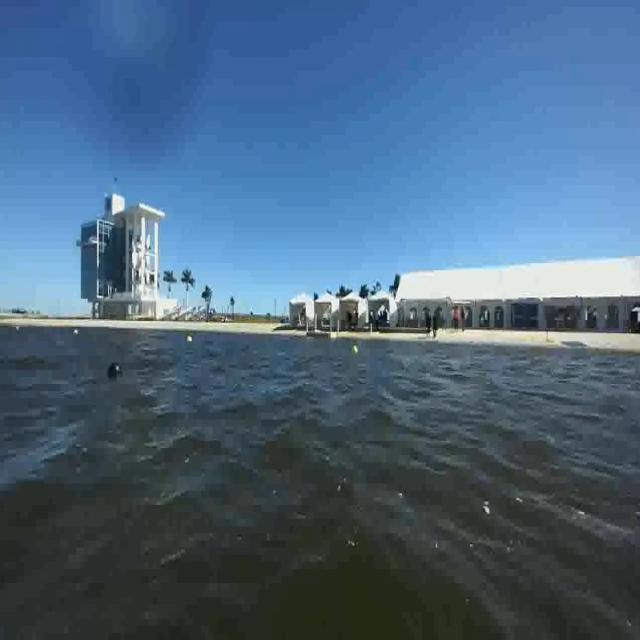black-buoy: (107, 361, 122, 378)
yellow-buoy: (353, 344, 359, 355)
